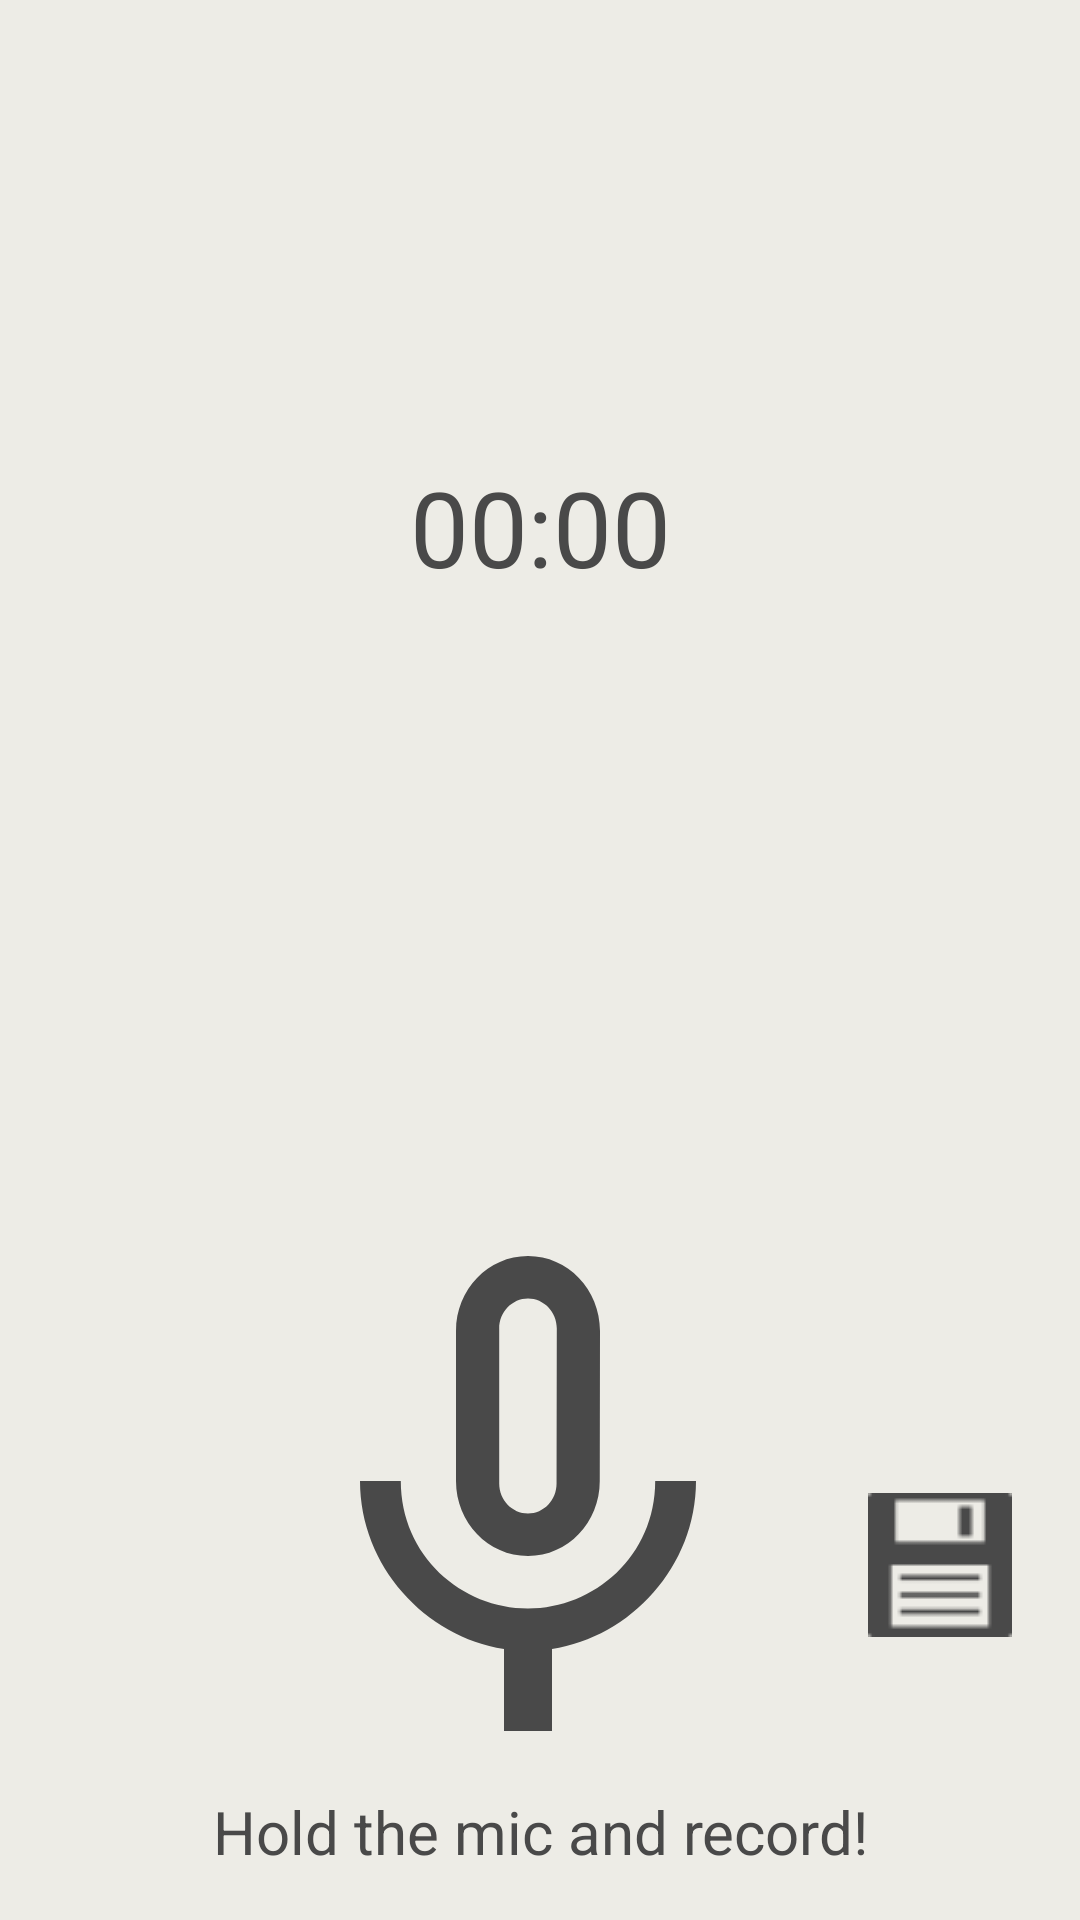

Point at icon controls on the screen. Image size 1080 x 1920, points as point (x, y).
Save: point (940, 1565)
